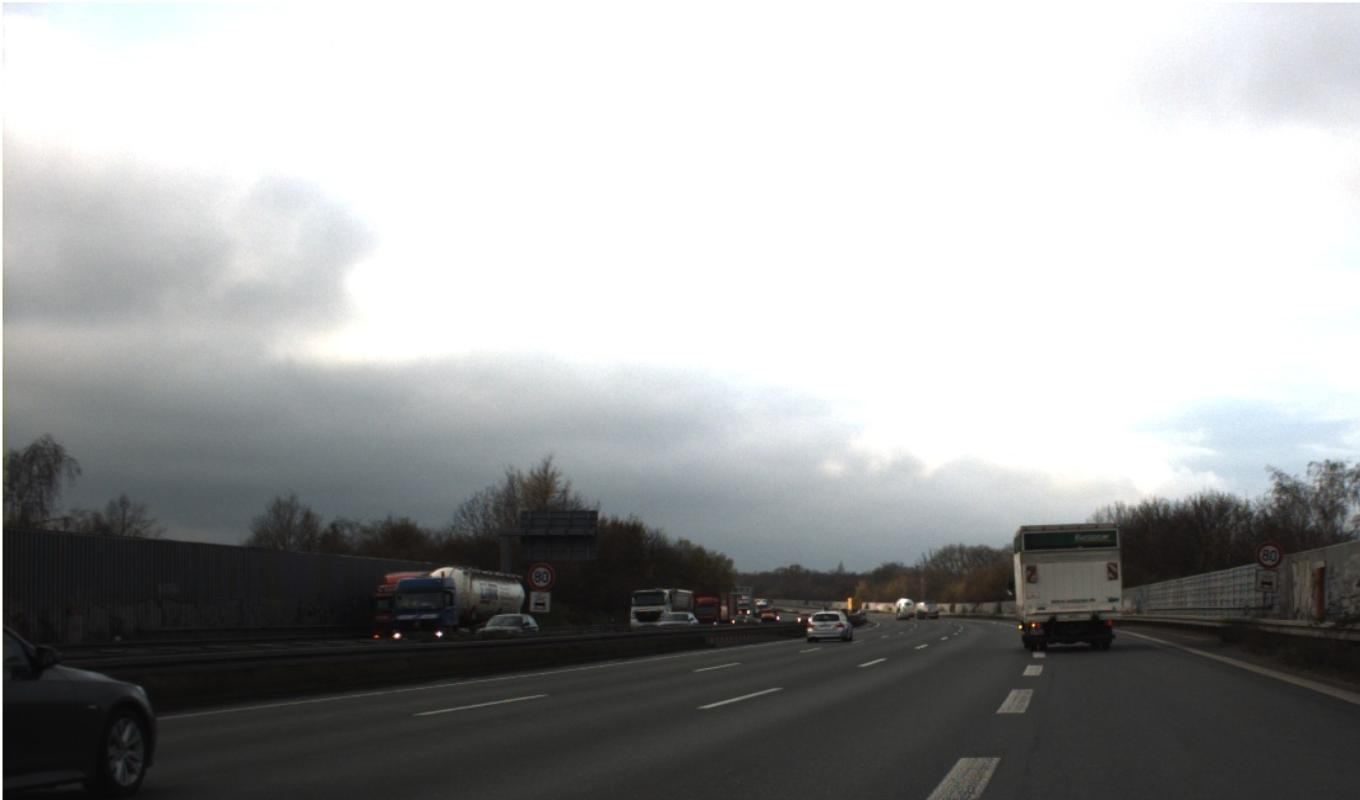NO-speed limit 80: (527, 540, 1283, 590)
